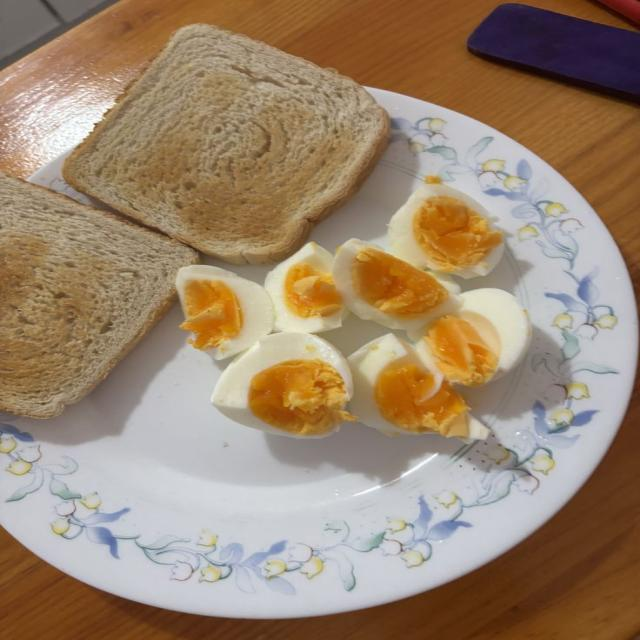sliced_bread: (63, 24, 388, 264), (0, 173, 197, 418)
